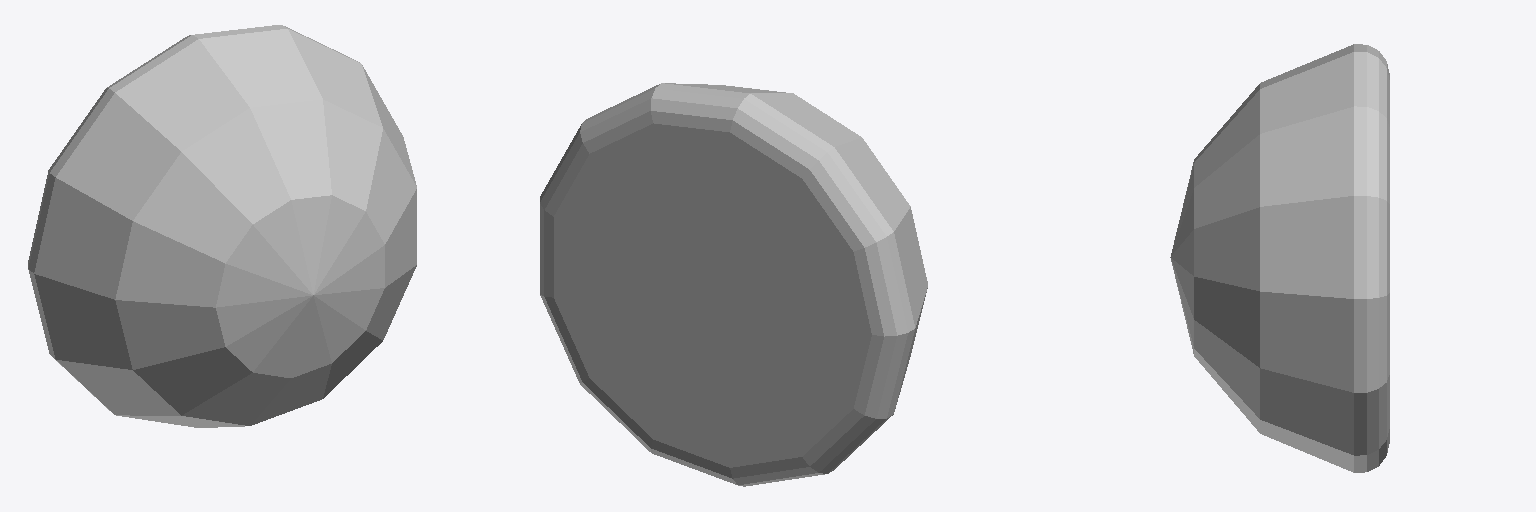
Rendered from Pan 1 Hamburguesa.obj.
3 renders of one model, left to right at view 1: azimuth 30°, elevation 25°; view 2: azimuth 150°, elevation 25°; view 3: azimuth 270°, elevation 25°, orthographic.
Parts seen in each view (by area): view 1: Pan_1_Hamburguesa; view 2: Pan_1_Hamburguesa; view 3: Pan_1_Hamburguesa.
Boxes of the visible parts, <box> form: Pan_1_Hamburguesa: <box>28,25,416,427</box>; Pan_1_Hamburguesa: <box>540,83,927,486</box>; Pan_1_Hamburguesa: <box>1170,44,1389,472</box>.
Bounding box in the file's own units: 29.18 × 29.4 × 15.